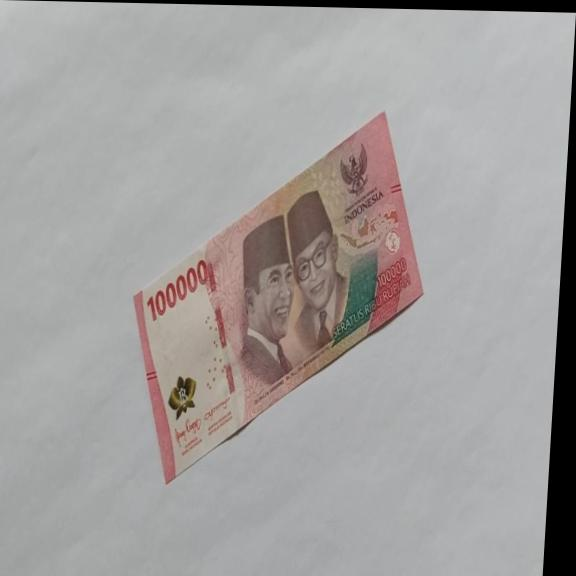Kertas: (122, 103, 435, 490), (145, 256, 210, 323)
